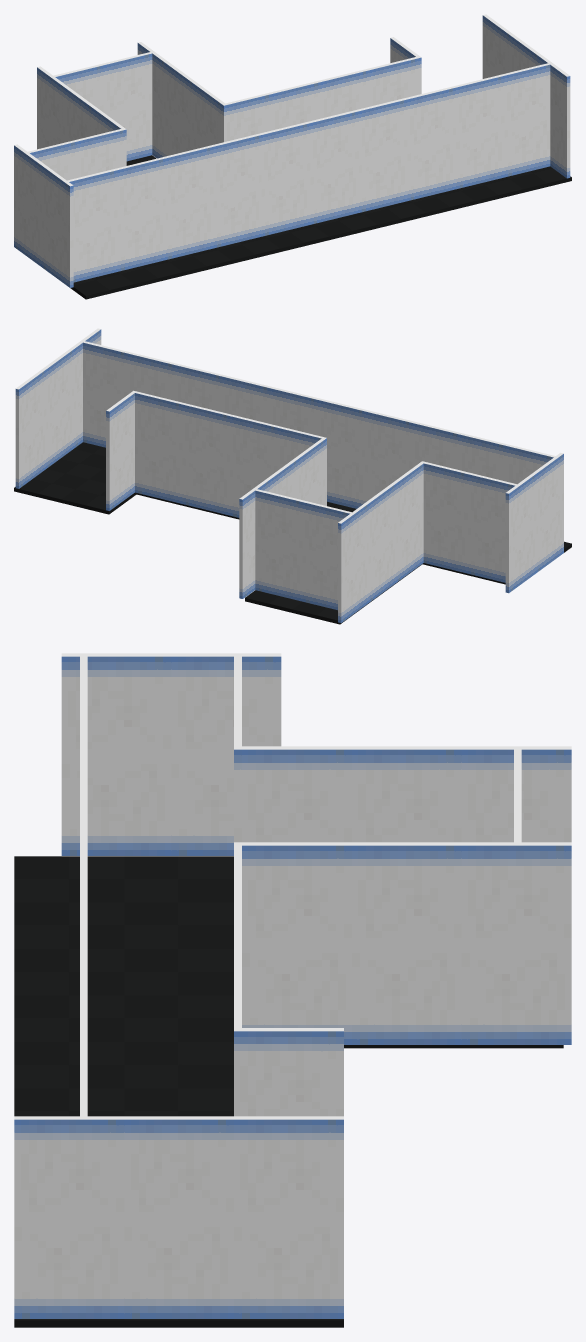
3 views of the same model, one above another, from view 1: azimuth 30°, elevation 25°; view 2: azimuth 150°, elevation 25°; view 3: azimuth 270°, elevation 25° (orthographic). The views are drawn at different scales.
Visible parts, largest first — view 1: cc_wall_b-w.031, cc_wall_b-w.011, cc_wall_b-w.033, cc_wall_b-w.025, cc_wall_b-w.027, cc_wall_b-w.047, cc_wall_b-w.029, cc_wall_b-w.043, cc_wall_b-w.045, cc_wall_b-w.030, cc_wall_b-w.026, cc_wall_b-w.042 (+45 smaller); view 2: cc_wall_b-w.011, cc_wall_b-w.019, cc_wall_b-w.017, cc_wall_b-w.047, cc_wall_b-w.021, cc_wall_b-w.006, cc_wall_b-w.018, cc_wall_b-w.016, cc_wall_b-w.039, cc_wall_b-w.031, cc_wall_b-w.035, cc_wall_b-w.038 (+43 smaller); view 3: cc_wall_b-w.059, cc_wall_b-w.010, cc_wall_b-w.053, cc_wall_b-w.055, cc_wall_b-w.008, cc_wall_b-w.009, cc_wall_b-w.058, cc_wall_b-w.004, cc_wall_b-w.052, cc_wall_b-w.054, cc_wall_b-w, cc_wall_b-w.051 (+24 smaller).
Part boxes in pixels (x1,y1,x2,y2): cc_wall_b-w.031: (260, 122, 310, 185); cc_wall_b-w.011: (102, 52, 152, 115); cc_wall_b-w.033: (454, 74, 504, 138); cc_wall_b-w.025: (406, 86, 455, 150); cc_wall_b-w.027: (357, 98, 407, 161); cc_wall_b-w.047: (212, 133, 261, 197); cc_wall_b-w.029: (308, 110, 358, 173); cc_wall_b-w.043: (116, 157, 165, 220); cc_wall_b-w.045: (163, 145, 213, 208); cc_wall_b-w.030: (261, 174, 310, 236); cc_wall_b-w.026: (359, 150, 407, 212); cc_wall_b-w.042: (117, 209, 165, 271); cc_wall_b-w.011: (255, 489, 304, 551); cc_wall_b-w.019: (182, 403, 231, 465); cc_wall_b-w.017: (135, 391, 183, 453); cc_wall_b-w.047: (365, 410, 413, 471); cc_wall_b-w.021: (230, 415, 278, 475); cc_wall_b-w.006: (255, 540, 302, 601); cc_wall_b-w.018: (182, 454, 229, 515); cc_wall_b-w.016: (135, 443, 182, 503); cc_wall_b-w.039: (420, 461, 469, 523); cc_wall_b-w.031: (318, 398, 366, 460); cc_wall_b-w.035: (81, 341, 128, 400); cc_wall_b-w.038: (423, 513, 467, 573); cc_wall_b-w.059: (14, 1116, 124, 1219); cc_wall_b-w.010: (461, 842, 571, 945); cc_wall_b-w.053: (234, 1116, 343, 1219); cc_wall_b-w.055: (124, 1116, 233, 1219); cc_wall_b-w.008: (242, 842, 351, 945); cc_wall_b-w.009: (352, 842, 461, 945); cc_wall_b-w.058: (14, 1219, 124, 1318); cc_wall_b-w.004: (461, 945, 571, 1044); cc_wall_b-w.052: (234, 1219, 343, 1318); cc_wall_b-w.054: (124, 1219, 233, 1318); cc_wall_b-w: (352, 945, 461, 1044); cc_wall_b-w.051: (61, 653, 171, 756).
Bounding box in the file's own units: 26.45 × 5.44 × 13.31.
2 materials, 2 textured.
